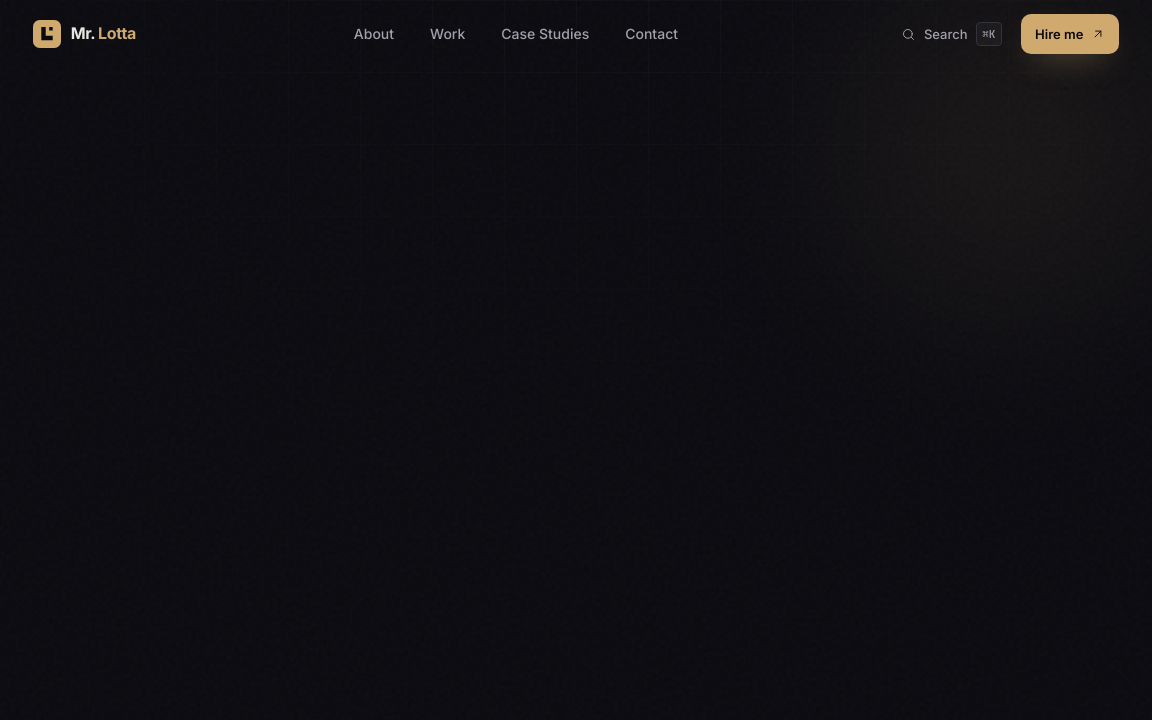
Scenario: command palette › copies the email address without closing the palette
This screenshot has width=1152, height=720.
Press k
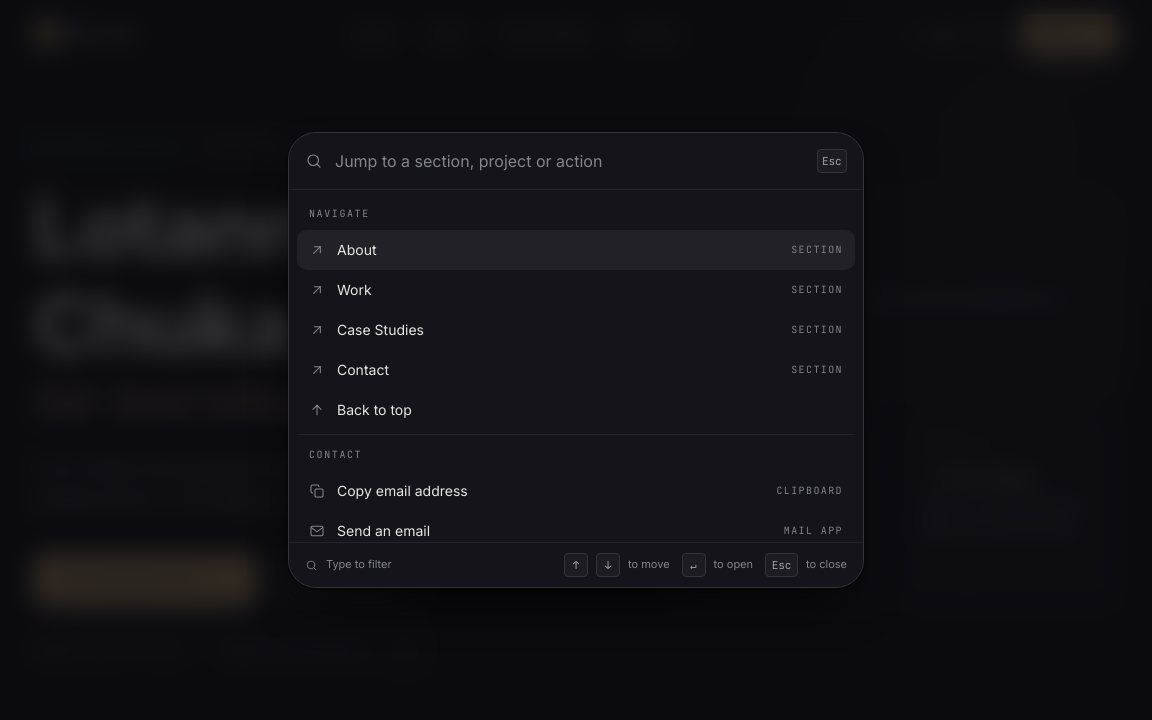
Click the option "Copy email address Clipboard" at (402, 490), box [309,482,843,499]
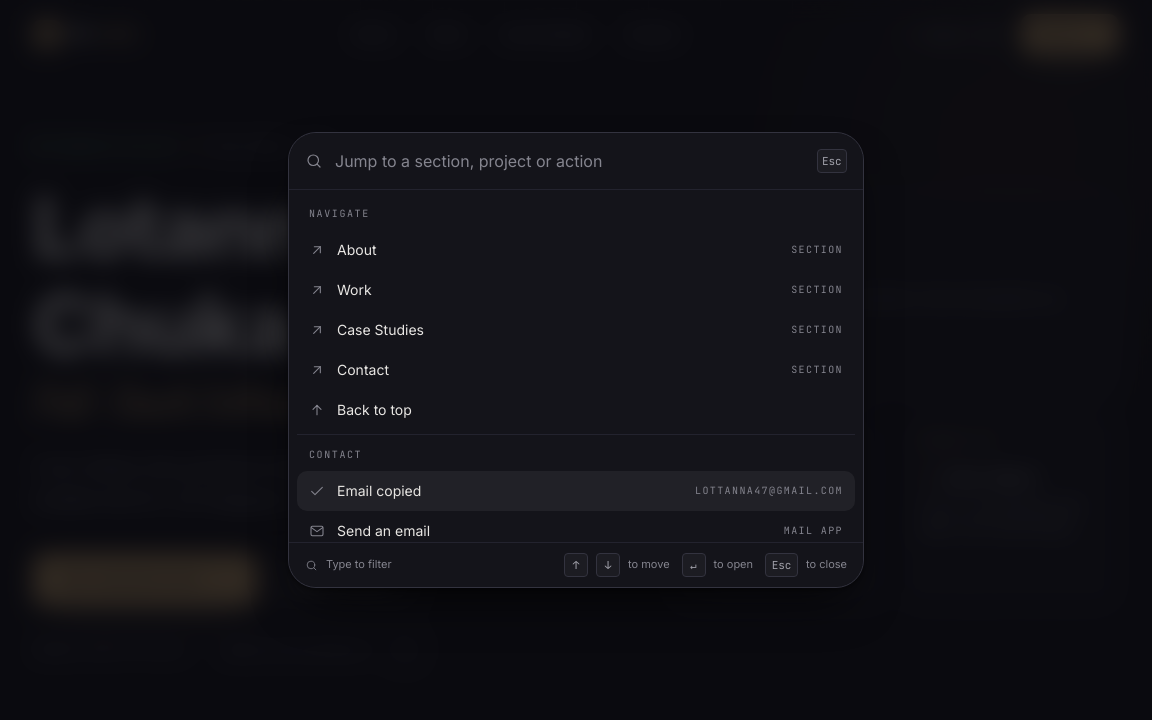
Expected: the dialog named "command menu" is shown, [288,132,864,588]
Expected: the text "Email copied" is shown, [337,481,421,501]
